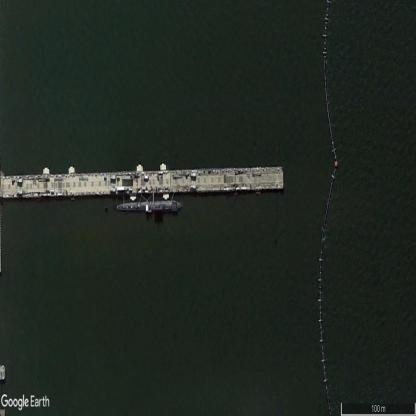ship: (116, 201, 183, 211)
